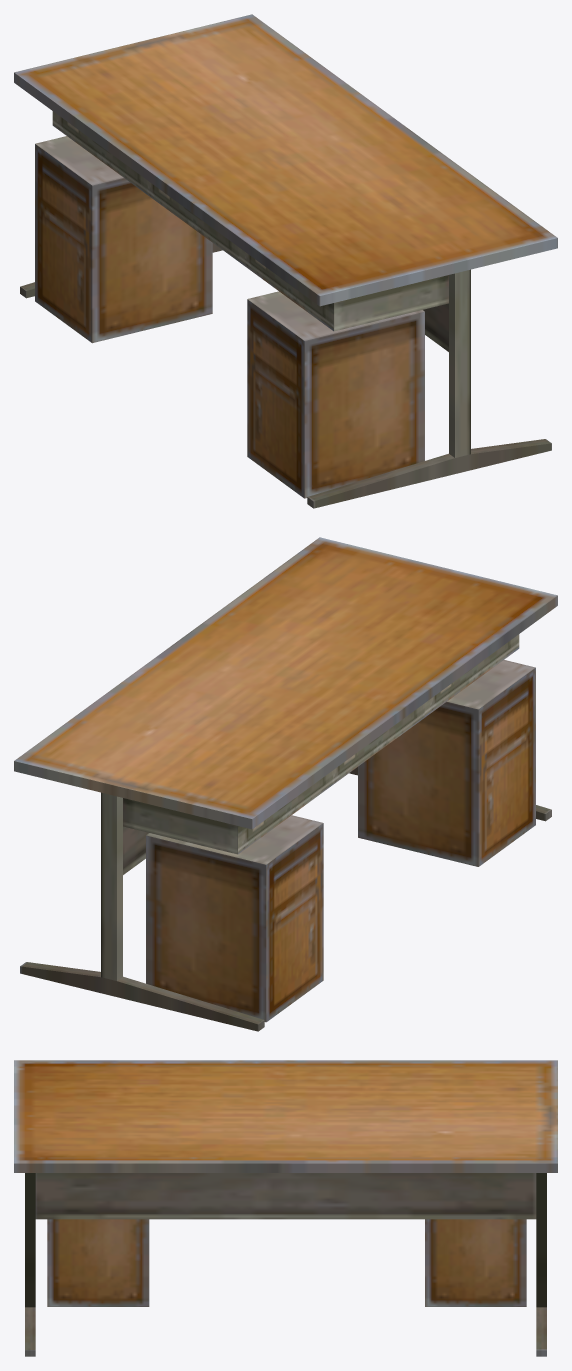
The model's file is DeskWood1.glb.
3 renders of one model, top to bottom at view 1: azimuth 30°, elevation 25°; view 2: azimuth 150°, elevation 25°; view 3: azimuth 270°, elevation 25°, orthographic. The views are drawn at different scales.
Parts seen in each view (by area): view 1: DESKWOOD1; view 2: DESKWOOD1; view 3: DESKWOOD1.
Boxes of the visible parts, x1,y1,x2,y2 form: DESKWOOD1: (14, 14, 557, 508); DESKWOOD1: (14, 537, 557, 1031); DESKWOOD1: (14, 1060, 557, 1356).
Size of the model in its own units: 0.9 by 0.783 by 2.
1 material, 1 textured.
